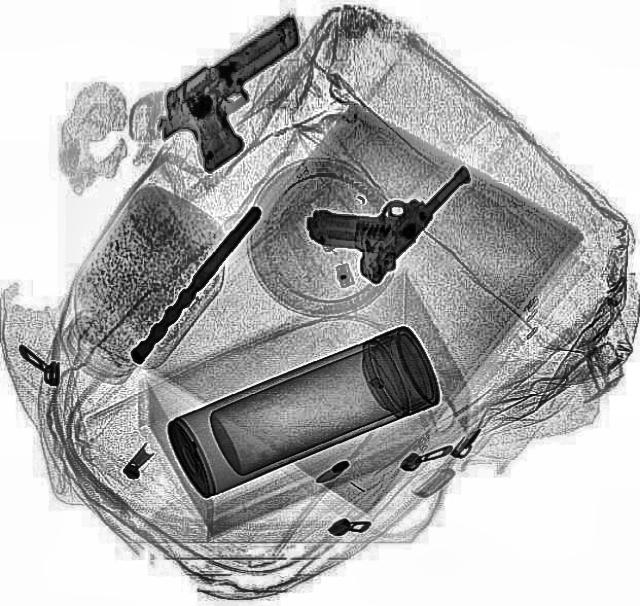Gun: (135, 7, 349, 179), (294, 120, 474, 286)
